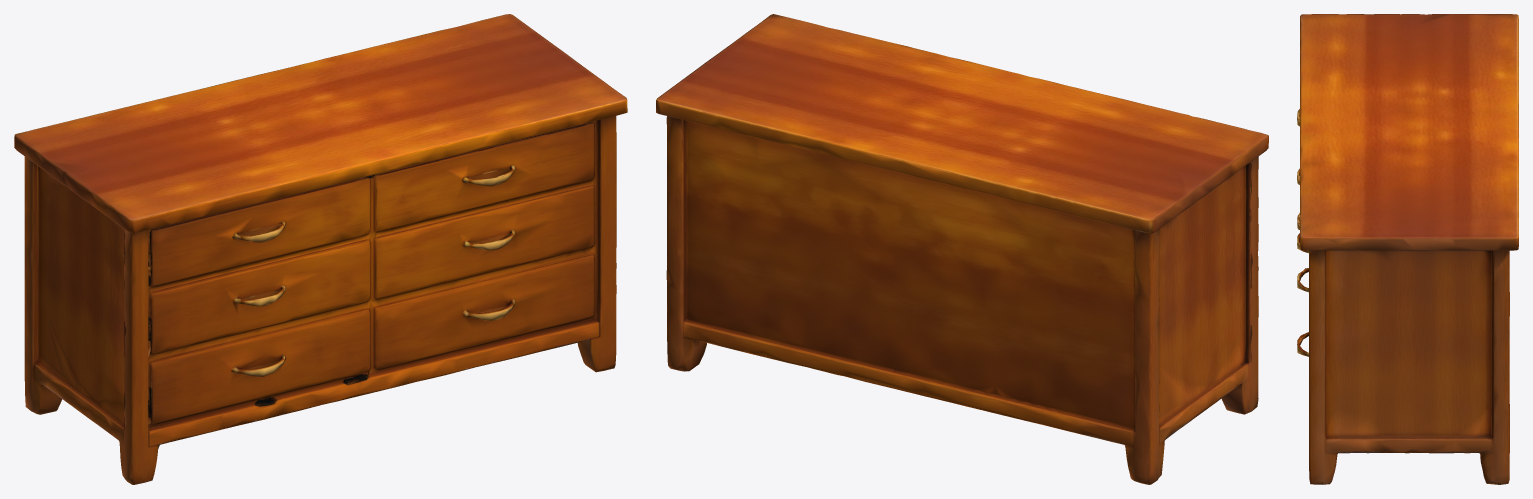
Rendered from Meshy_AI_cekmece_0108000345_texture.fbx.
The picture shows the model from 3 angles, left to right: view 1: azimuth 30°, elevation 25°; view 2: azimuth 150°, elevation 25°; view 3: azimuth 270°, elevation 25°; orthographic projection. The views are drawn at different scales.
Visible parts, largest first — view 1: Mesh_0; view 2: Mesh_0; view 3: Mesh_0.
Part boxes in pixels (bbox=[...]): Mesh_0: bbox=[14, 14, 627, 484]; Mesh_0: bbox=[656, 14, 1268, 484]; Mesh_0: bbox=[1297, 14, 1518, 484].
Bounding box in the file's own units: 191 × 99.43 × 79.81.
1 material, 1 textured.
